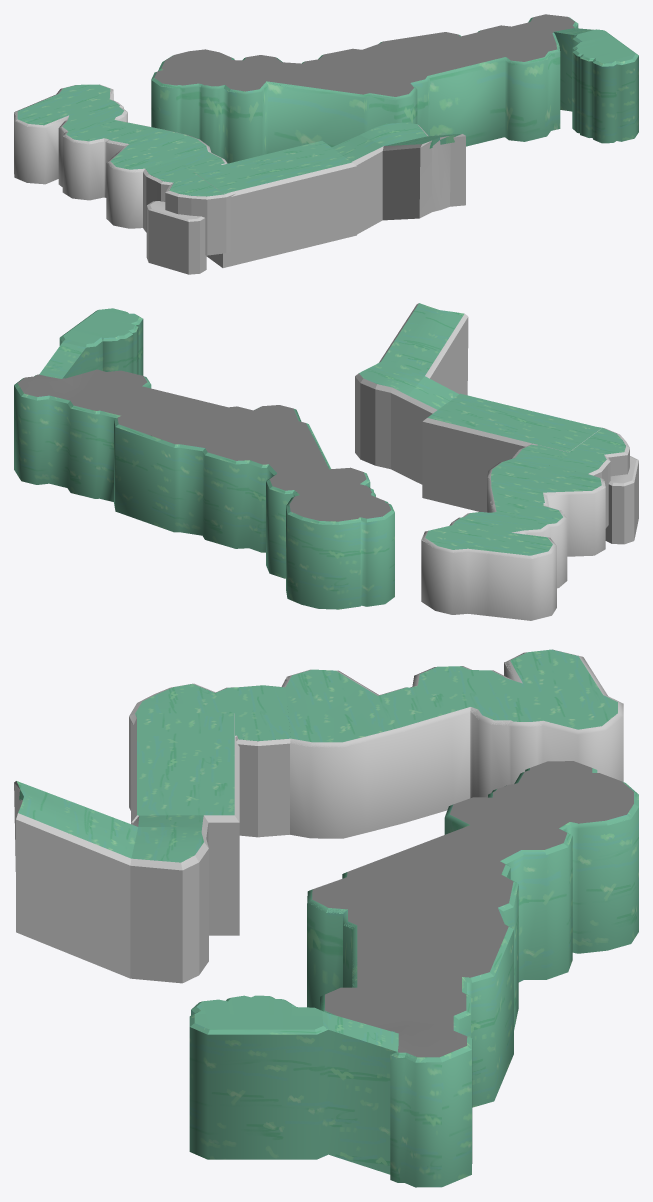
File: Temple_Terrain.fbx
3 views of the same model, one above another, from view 1: azimuth 30°, elevation 25°; view 2: azimuth 150°, elevation 25°; view 3: azimuth 270°, elevation 25° (orthographic). The views are drawn at different scales.
Visible parts, largest first — view 1: Terrain1_side, Terrain5_Side, Terrain2_Upper, Terrain4_Side, Terrain3_Side, Terrain3_upper, Terrain7_Upper, Terrain5_Upper, Terrain1_Upper, Terrain2_Side, Terrain4_Upper, Terrain6_Upper (+5 smaller); view 2: Terrain1_side, Terrain5_Side, Terrain2_Side, Terrain2_Upper, Terrain3_upper, Terrain7_Upper, Terrain5_Upper, Terrain3_Side, Terrain1_Upper, Terrain4_Upper, Terrain4_Side, Terrain9_Upper (+5 smaller); view 3: Terrain1_side, Terrain5_Side, Terrain2_Upper, Terrain3_Side, Terrain3_upper, Terrain7_Upper, Terrain5_Upper, Terrain2_Side, Terrain1_Upper, Terrain4_Upper, Terrain4_Side, Terrain6_Upper (+6 smaller).
Part boxes in pixels (bbox=[...]): Terrain1_side: bbox=[151, 22, 638, 163]; Terrain5_Side: bbox=[194, 125, 465, 267]; Terrain2_Upper: bbox=[303, 32, 487, 96]; Terrain4_Side: bbox=[143, 152, 235, 274]; Terrain3_Side: bbox=[62, 121, 210, 228]; Terrain3_upper: bbox=[154, 49, 350, 92]; Terrain7_Upper: bbox=[194, 140, 351, 193]; Terrain5_Upper: bbox=[66, 120, 207, 169]; Terrain1_Upper: bbox=[460, 14, 574, 61]; Terrain2_Side: bbox=[14, 85, 127, 186]; Terrain4_Upper: bbox=[17, 84, 123, 131]; Terrain6_Upper: bbox=[145, 152, 227, 196]; Terrain1_side: bbox=[14, 312, 394, 609]; Terrain5_Side: bbox=[355, 303, 601, 512]; Terrain2_Side: bbox=[421, 513, 556, 620]; Terrain2_Upper: bbox=[117, 391, 308, 464]; Terrain3_upper: bbox=[269, 429, 391, 521]; Terrain7_Upper: bbox=[427, 393, 601, 452]; Terrain5_Upper: bbox=[491, 458, 601, 524]; Terrain3_Side: bbox=[487, 458, 605, 588]; Terrain1_Upper: bbox=[17, 369, 160, 415]; Terrain4_Upper: bbox=[425, 512, 552, 555]; Terrain4_Side: bbox=[512, 427, 638, 544]; Terrain9_Upper: bbox=[381, 303, 464, 375]; Terrain1_side: bbox=[189, 768, 638, 1187]; Terrain5_Side: bbox=[14, 713, 239, 983]; Terrain2_Upper: bbox=[312, 861, 513, 977]; Terrain3_Side: bbox=[282, 666, 471, 838]; Terrain3_upper: bbox=[363, 761, 633, 866]; Terrain7_Upper: bbox=[137, 713, 234, 815]; Terrain5_Upper: bbox=[285, 666, 470, 742]; Terrain2_Side: bbox=[470, 649, 623, 798]; Terrain1_Upper: bbox=[325, 973, 467, 1057]; Terrain4_Upper: bbox=[470, 649, 617, 729]; Terrain4_Side: bbox=[129, 683, 290, 837]; Terrain6_Upper: bbox=[135, 684, 290, 741].
Size of the model in its own units: 33966 by 7076 by 21614.
